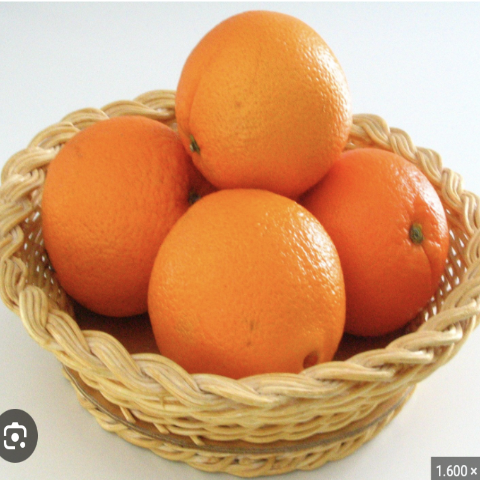orange: (142, 167, 360, 408), (20, 110, 211, 312), (164, 0, 352, 184), (291, 139, 464, 308)
